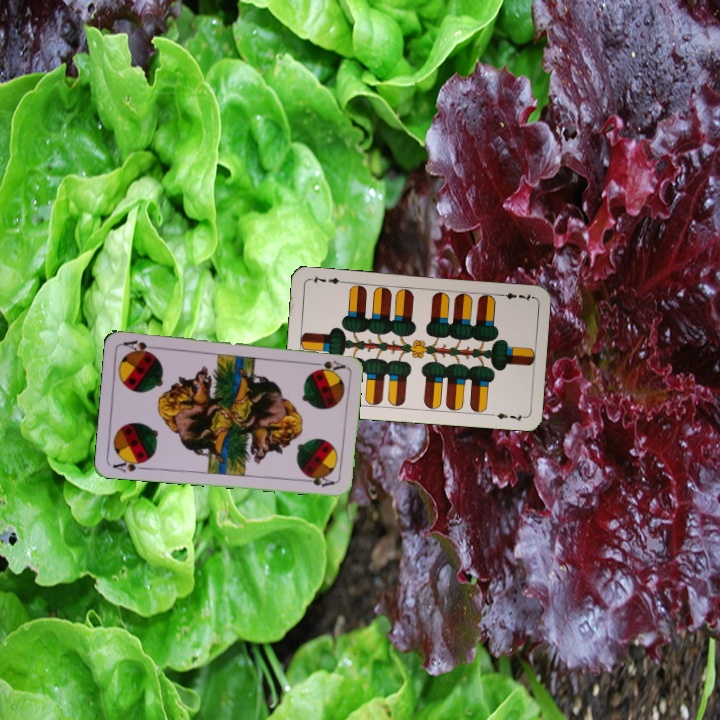E7: (494, 289, 535, 304)
SA: (109, 455, 149, 475), (306, 356, 347, 371)
